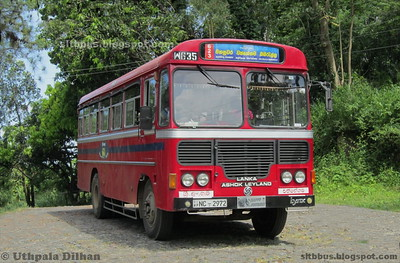bus: (77, 38, 314, 240)
